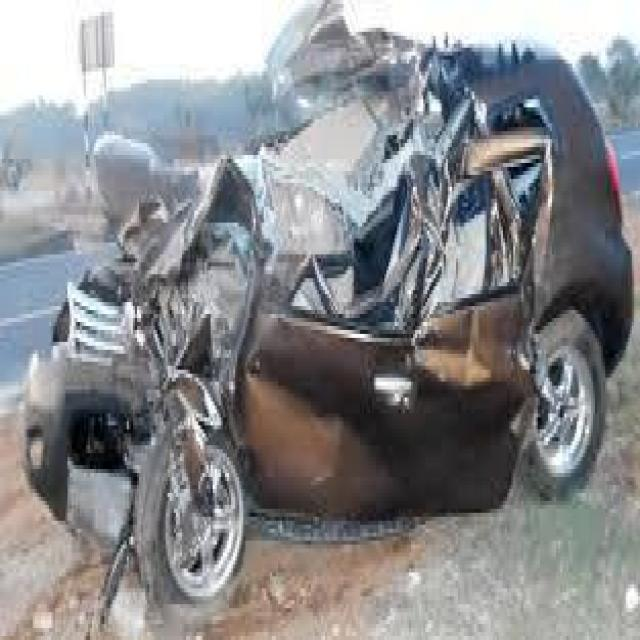accident: (14, 12, 636, 592)
